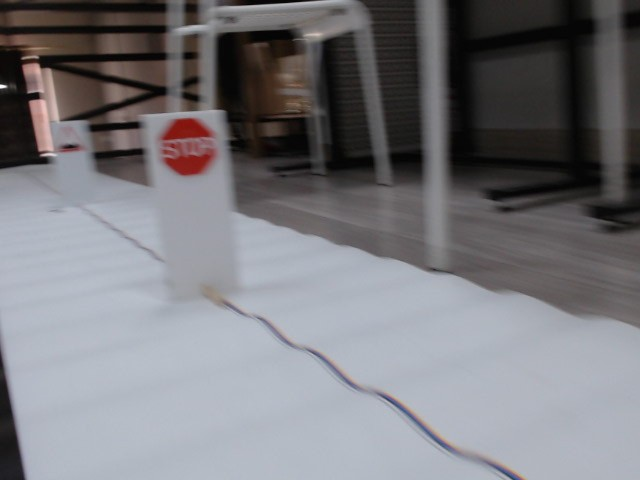Stop: (159, 120, 218, 176)
